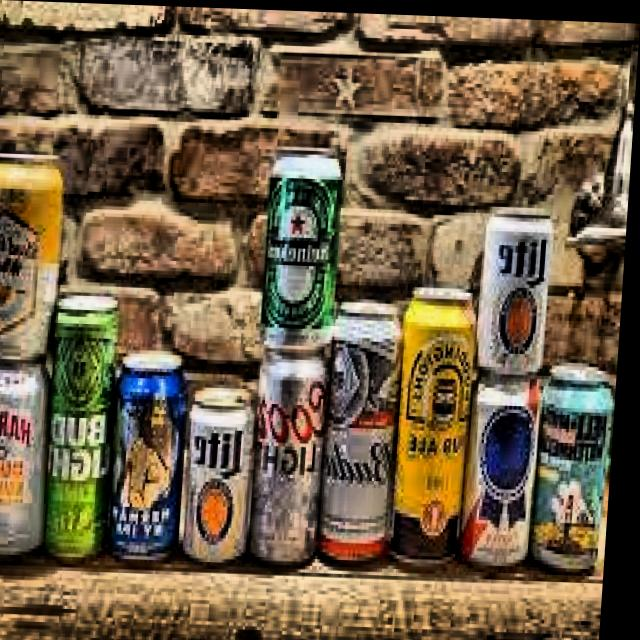can: (394, 282, 484, 567), (321, 289, 411, 562), (42, 283, 127, 560), (250, 342, 338, 567), (110, 343, 196, 570), (535, 353, 622, 574), (262, 131, 349, 346), (464, 365, 549, 569), (0, 147, 72, 364), (185, 373, 263, 563), (479, 199, 559, 372), (0, 357, 59, 557)
